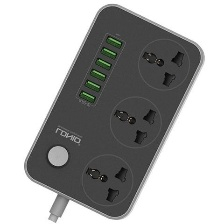three_eye_plug: (21, 2, 207, 222)
